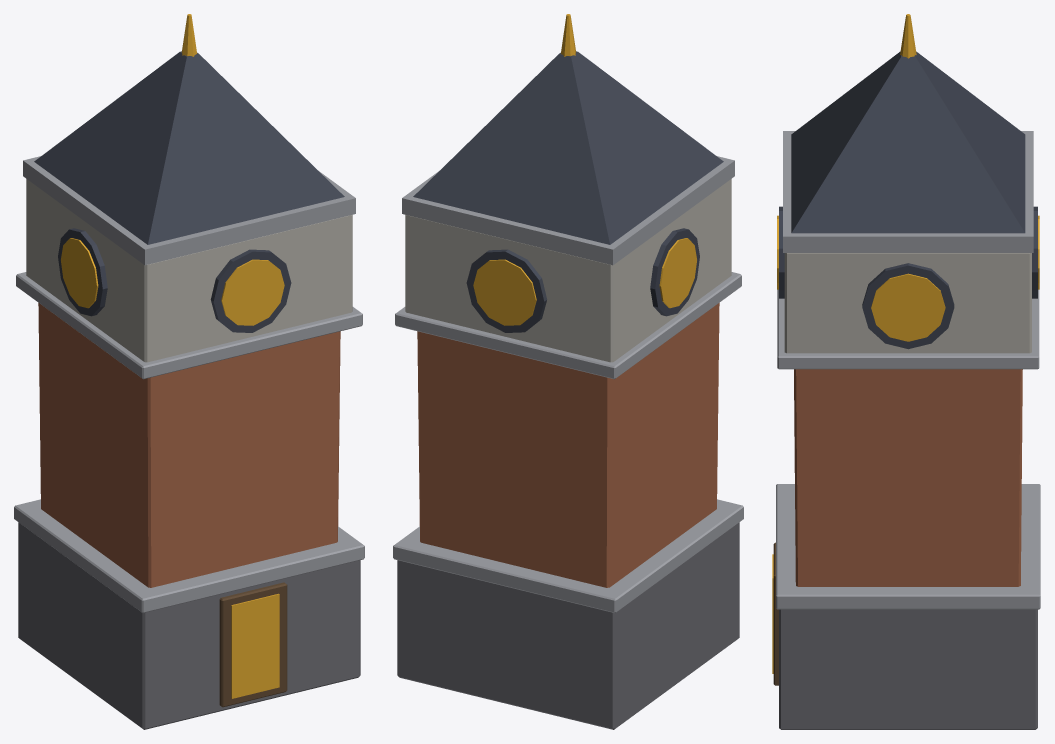
The model's file is Stylized_Landmark_ClockTower.fbx.
3 renders of one model, left to right at view 1: azimuth 30°, elevation 25°; view 2: azimuth 150°, elevation 25°; view 3: azimuth 270°, elevation 25°, orthographic. The views are drawn at different scales.
Parts seen in each view (by area): view 1: Stylized_Landmark_ClockTower; view 2: Stylized_Landmark_ClockTower; view 3: Stylized_Landmark_ClockTower.
Boxes of the visible parts, x1,y1,x2,y2 form: Stylized_Landmark_ClockTower: (14, 14, 364, 729); Stylized_Landmark_ClockTower: (393, 14, 743, 729); Stylized_Landmark_ClockTower: (772, 14, 1040, 729).
Bounding box in the file's own units: 3.56 × 9.8 × 3.61.
